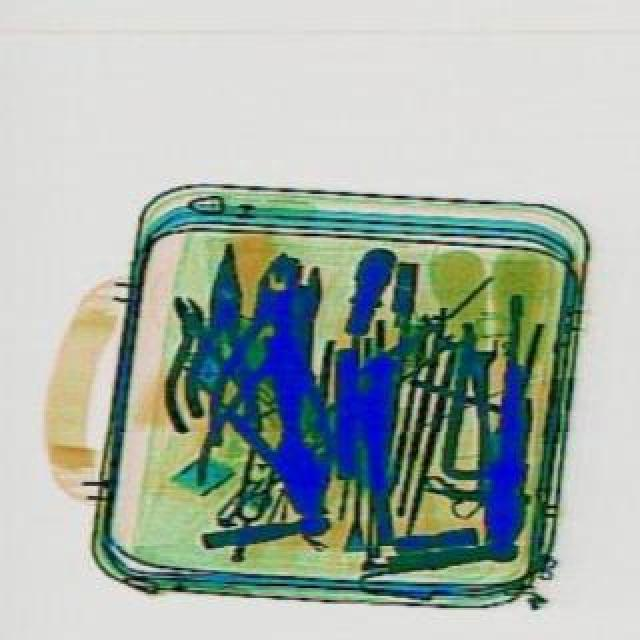wrench: (188, 252, 364, 506), (200, 250, 340, 454), (180, 244, 260, 428), (150, 286, 248, 434)
